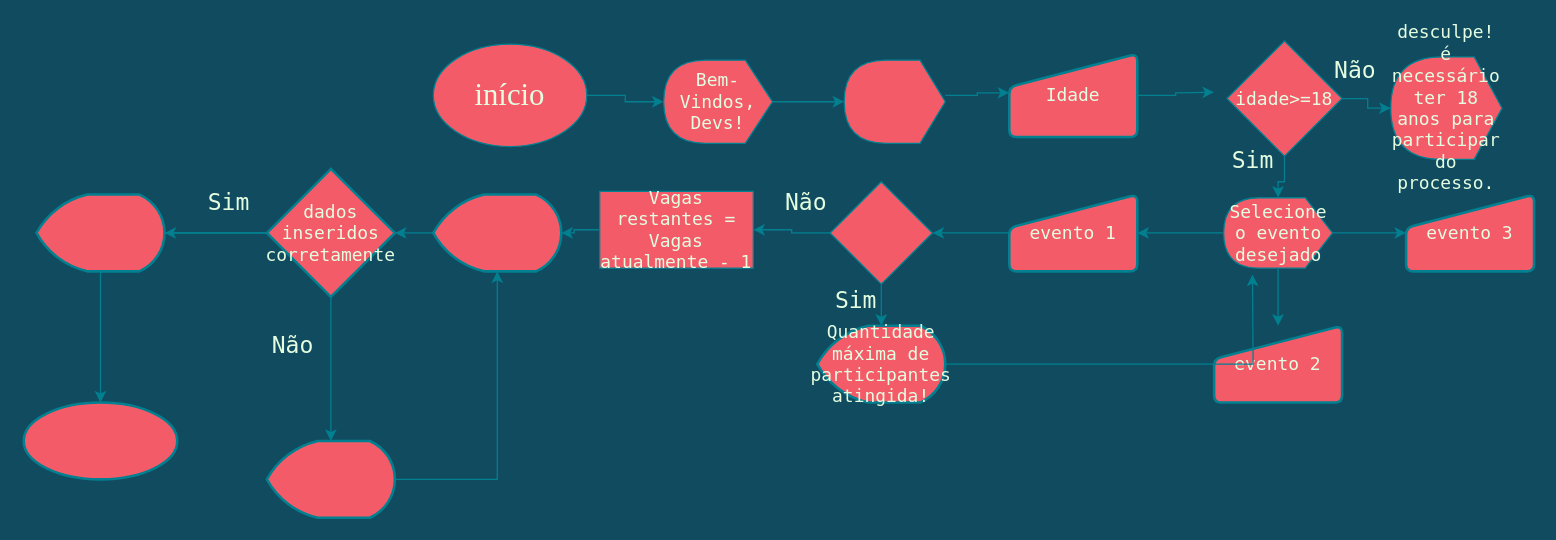
The diagram is 1556 pixels wide and 540 high, and some of its shapes have lost their labels. Here are the shapes that lost their labels. From the top down, the box of each, then its label:
(843, 59, 945, 143): Insira sua idade:
(35, 193, 165, 272): Parabéns, parabéns! Cadastro concluído com sucesso.
(431, 193, 562, 272): insira seus dados
(829, 180, 932, 284): Quantidade de participantes>=100
(22, 401, 178, 480): Fim
(265, 439, 396, 518): Dados incorretos
